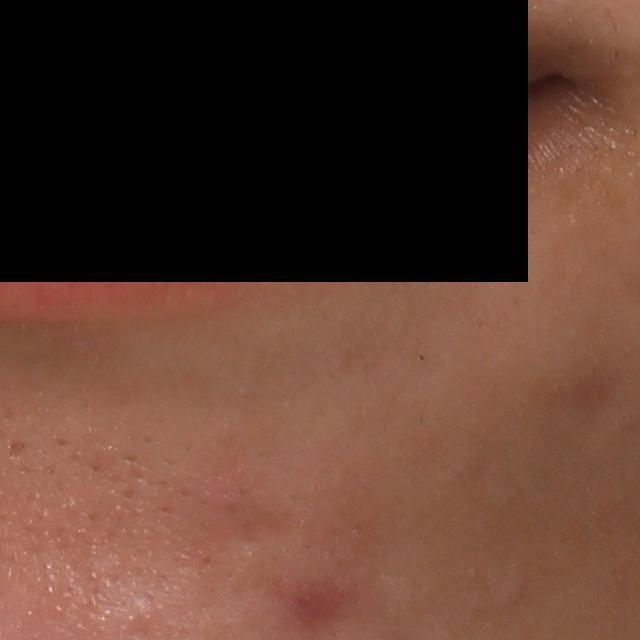atrophic_scar: (6, 438, 30, 459)
